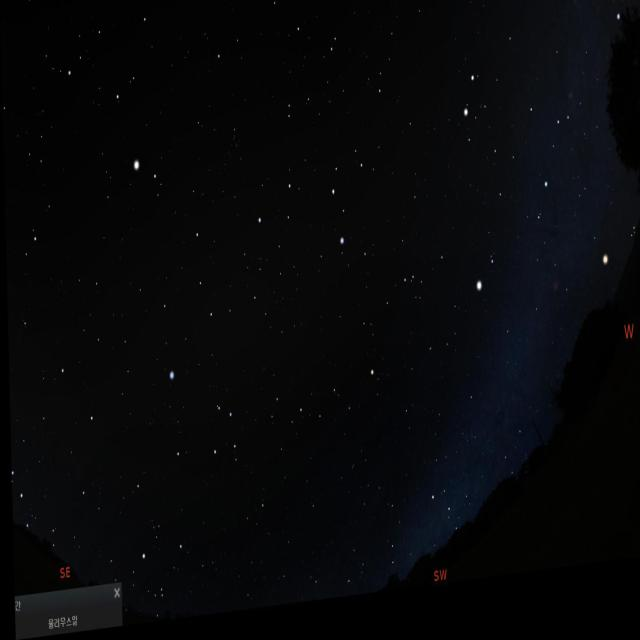bootes: (84, 0, 170, 199)
canis_minor: (467, 258, 497, 321)
gemini: (446, 30, 561, 222)
leo: (248, 147, 371, 281)
